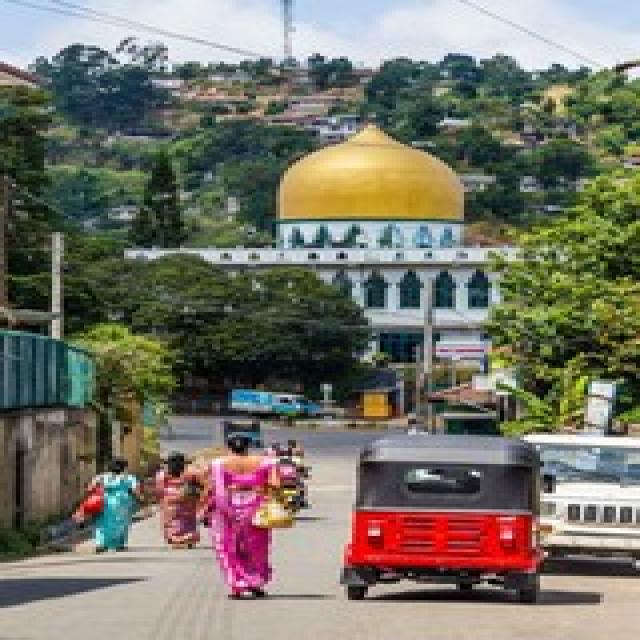person: (212, 435, 272, 597), (92, 459, 136, 552), (156, 453, 196, 549), (272, 440, 304, 488)
three wheeler: (340, 435, 536, 603), (220, 419, 256, 448)
van: (520, 435, 636, 557)
